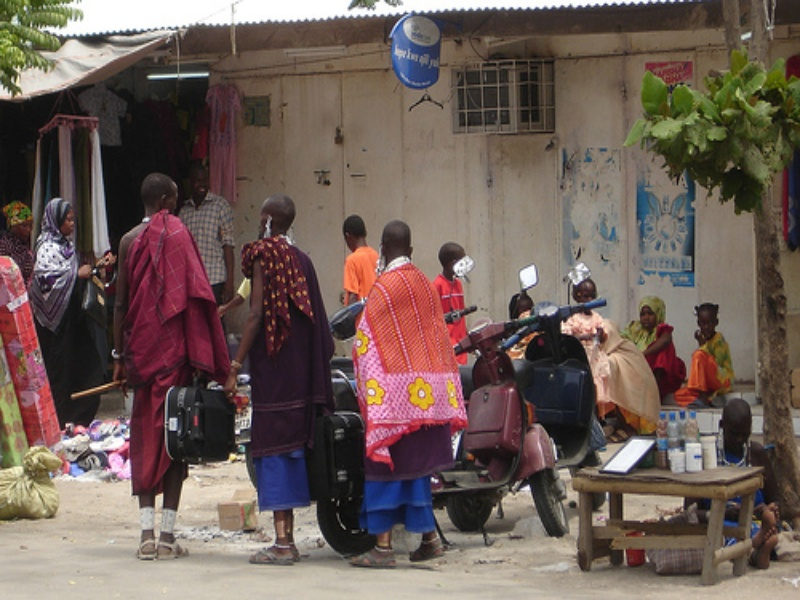person: (113, 172, 231, 563), (350, 220, 467, 568), (225, 197, 335, 566), (683, 398, 780, 570), (28, 198, 98, 427), (563, 277, 662, 435), (182, 162, 236, 304), (618, 296, 686, 400), (674, 304, 736, 404), (433, 242, 469, 363), (339, 215, 379, 305), (1, 201, 36, 274)
